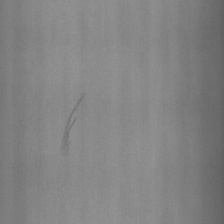water_spot: (58, 86, 89, 164)
